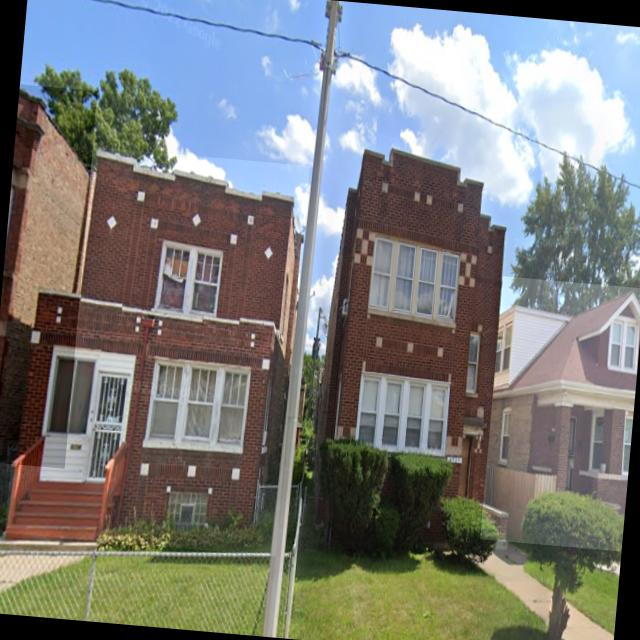House: (4, 142, 310, 556), (307, 140, 543, 556), (480, 276, 640, 551), (0, 84, 97, 468)
